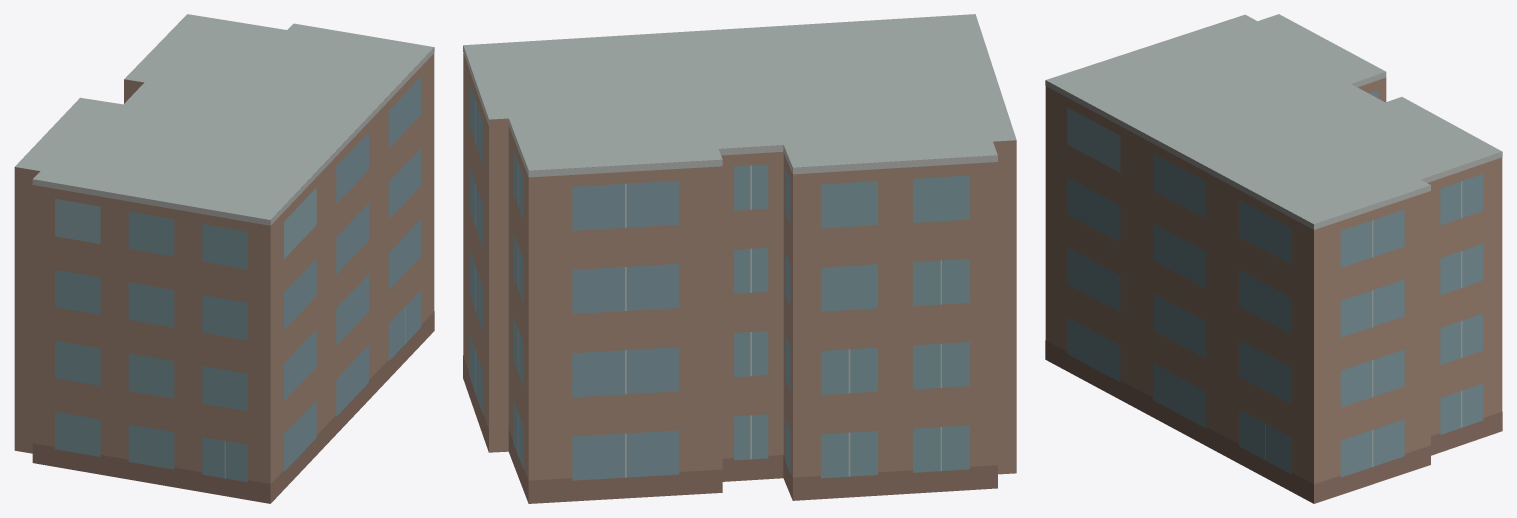
File: survey-upis-32740077.glb
3 renders of one model, left to right at view 1: azimuth 30°, elevation 25°; view 2: azimuth 150°, elevation 25°; view 3: azimuth 270°, elevation 25°, orthographic. The views are drawn at different scales.
Parts seen in each view (by area): view 1: survey-upis-32740077.tmp; view 2: survey-upis-32740077.tmp; view 3: survey-upis-32740077.tmp.
Boxes of the visible parts, box(x1,y1,x2,y2) form: survey-upis-32740077.tmp: box(14, 14, 434, 503); survey-upis-32740077.tmp: box(463, 14, 1016, 503); survey-upis-32740077.tmp: box(1045, 14, 1502, 503).
Size of the model in its own units: 19.53 by 12.1 by 17.94.
